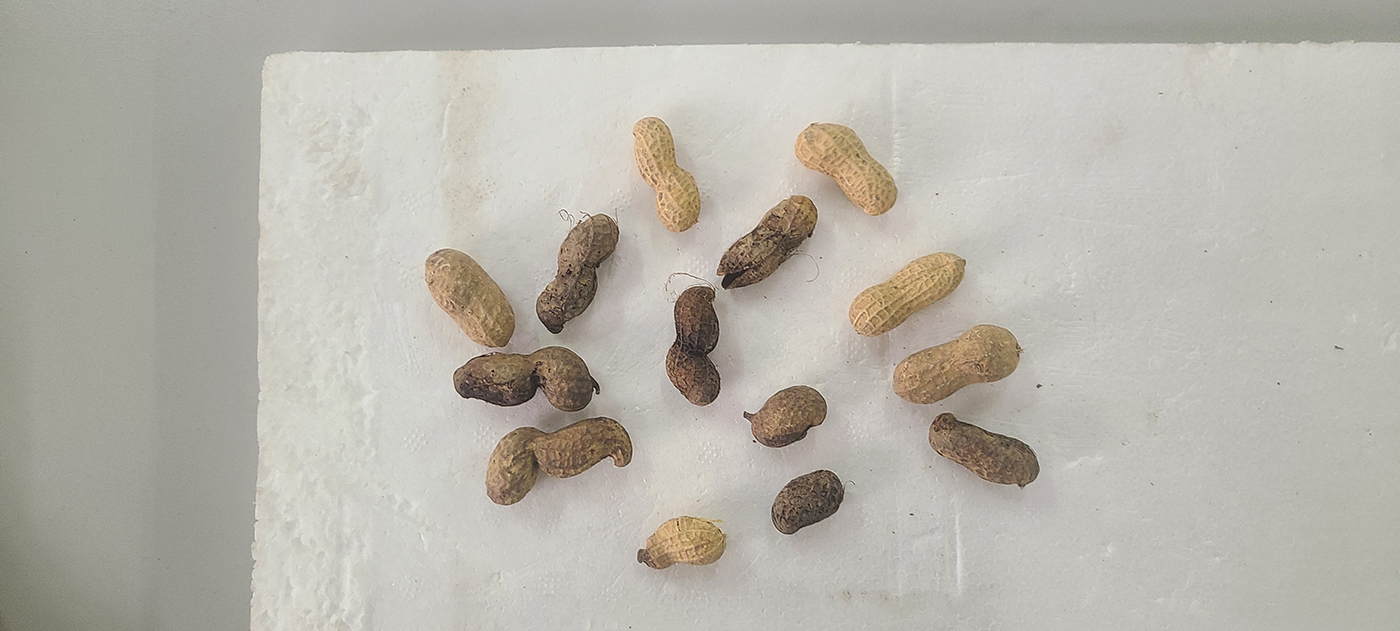h: (892, 324, 1022, 405), (848, 251, 967, 337), (795, 121, 898, 216), (425, 248, 516, 348), (633, 116, 701, 234), (638, 517, 725, 570)
l: (484, 416, 634, 505), (535, 213, 620, 335), (716, 196, 818, 288), (453, 346, 595, 412), (929, 413, 1041, 486), (665, 286, 723, 406), (769, 469, 845, 534), (751, 385, 827, 448)
